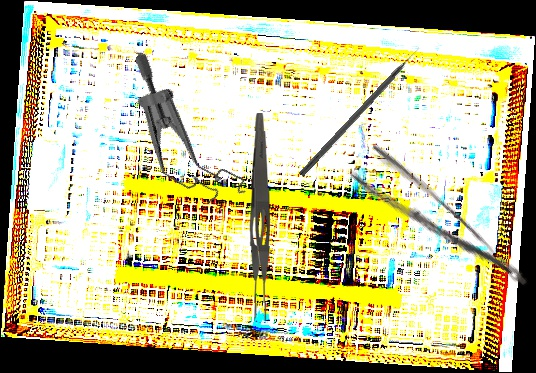Dressing Forceps: (347, 140, 533, 314), (246, 112, 272, 322)
Hook Surgical: (298, 45, 424, 179)
Speculum: (89, 49, 281, 220)
